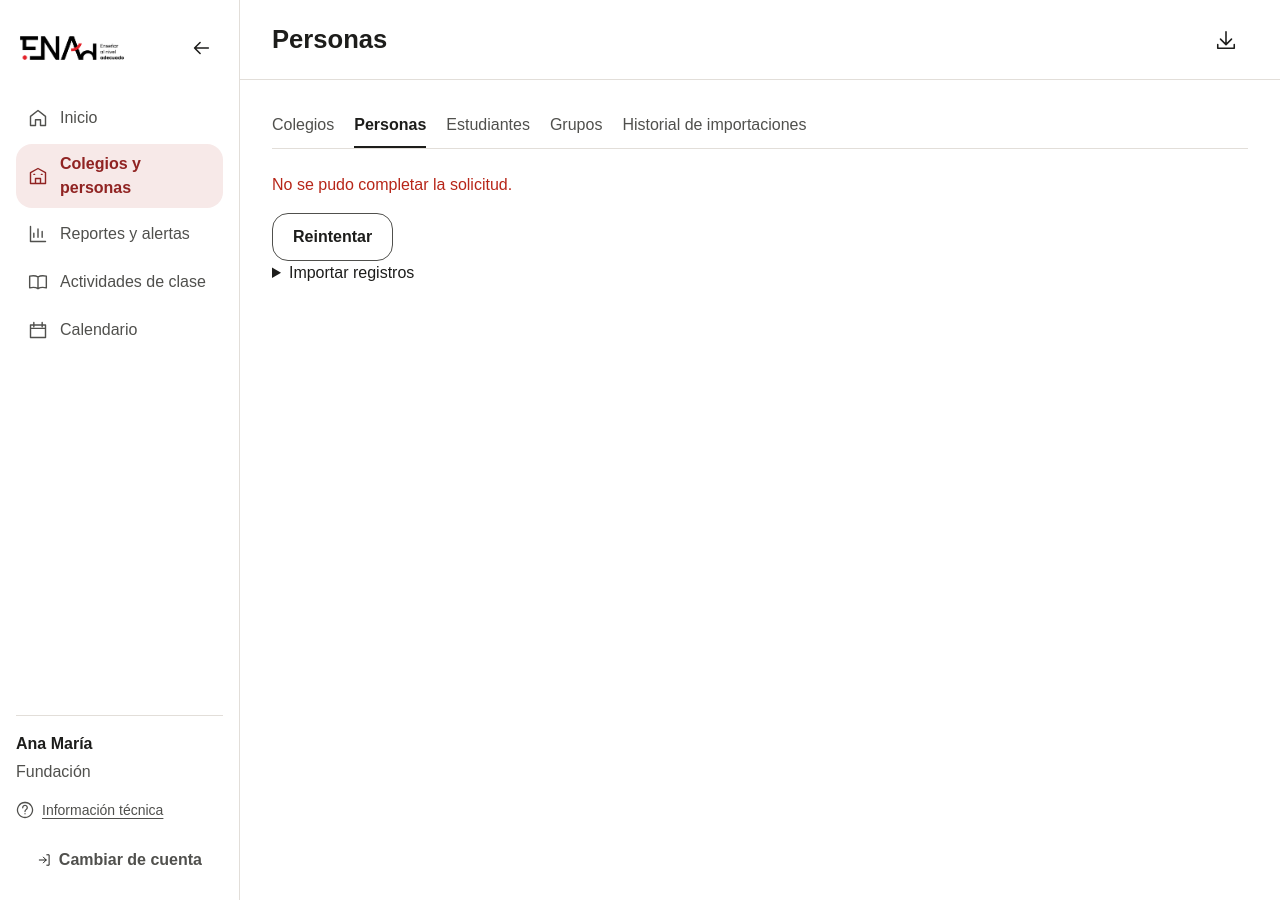
conserva el destino y ubica la sección al entrar por /recoleccion/docentes?school=s
The image size is (1280, 900).
Check: the heading "Personas" is shown, box [272,24,387,55]
Check: the link "Descargas" is not shown
Click the link named "Descargas". click: (1226, 40)
box: [1215,28,1237,50]
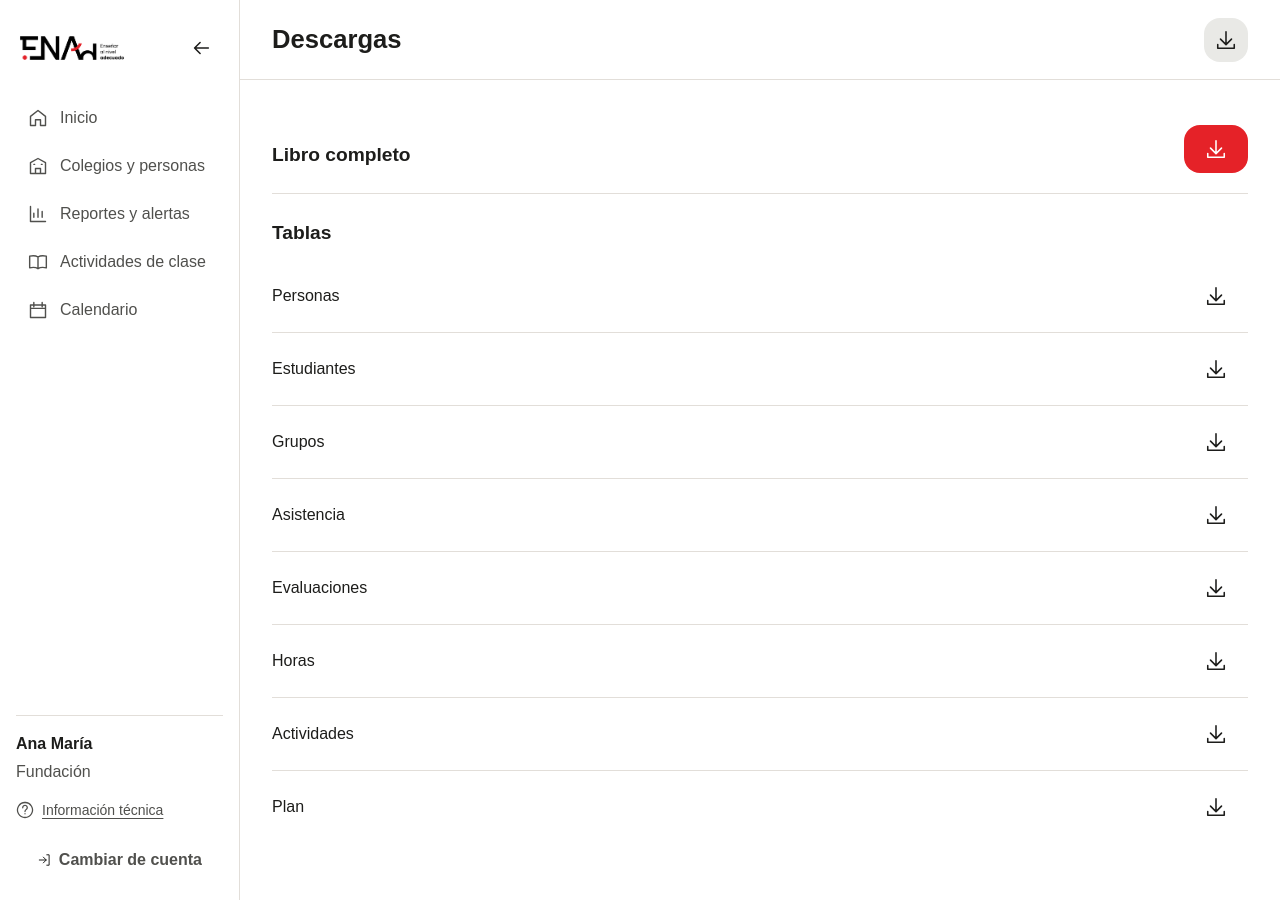
Check: the heading "Descargas" is shown, box [272,24,402,55]
